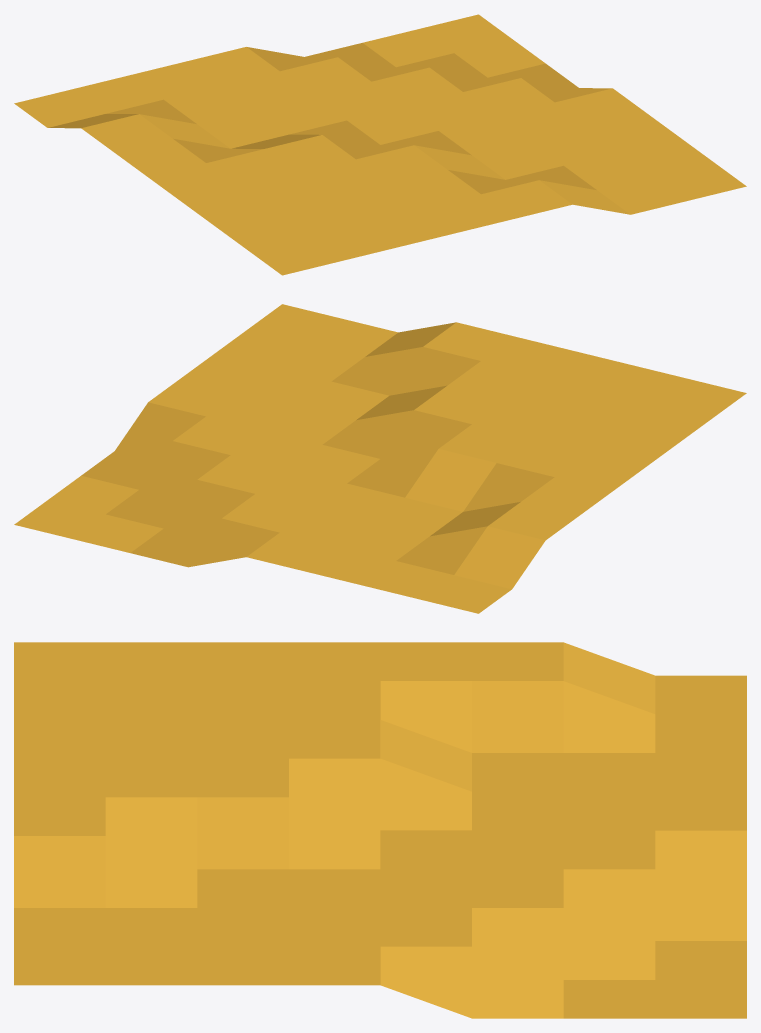
Rendered from TerrainExample.glb.
The picture shows the model from 3 angles, top to bottom: view 1: azimuth 30°, elevation 25°; view 2: azimuth 150°, elevation 25°; view 3: azimuth 270°, elevation 25°; orthographic projection. The views are drawn at different scales.
Parts seen in each view (by area): view 1: Plane; view 2: Plane; view 3: Plane.
Part boxes in pixels (x1,y1,x2,y2): Plane: (14,14,746,275); Plane: (14,304,746,613); Plane: (14,642,746,1018).
Size of the model in its own units: 2 by 0.2 by 2.
